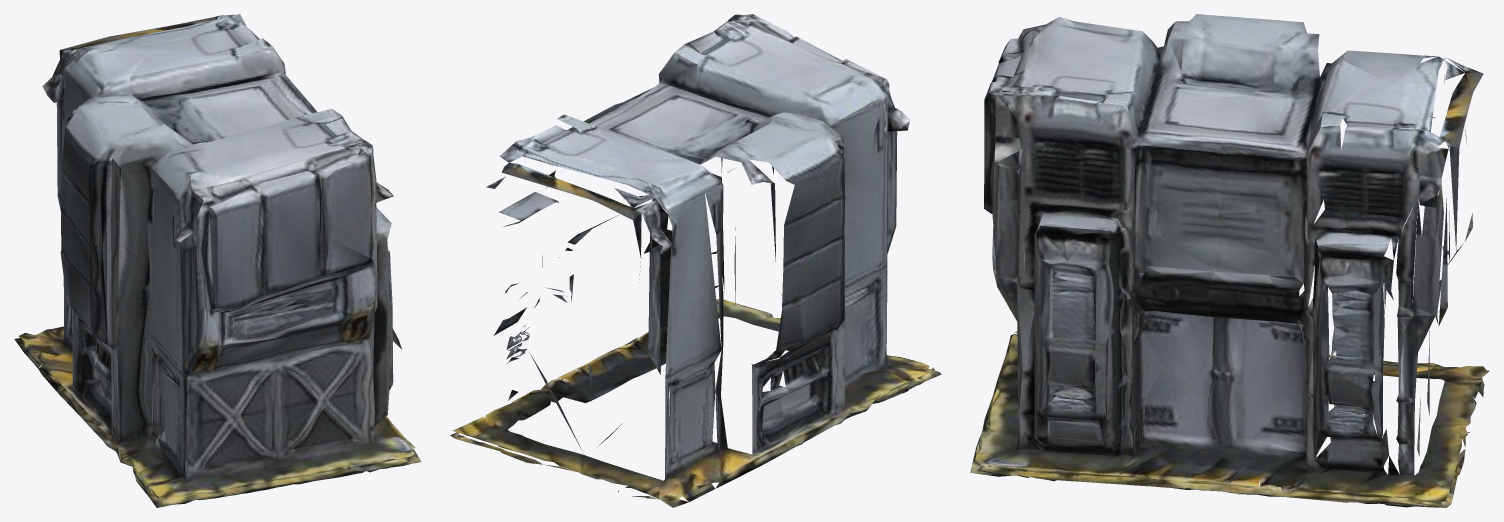
Rendered from hangar_pillar_block_a.glb.
The picture shows the model from 3 angles, left to right: view 1: azimuth 30°, elevation 25°; view 2: azimuth 150°, elevation 25°; view 3: azimuth 270°, elevation 25°; orthographic projection. The views are drawn at different scales.
Parts seen in each view (by area): view 1: hangar_pillar_block_a; view 2: hangar_pillar_block_a; view 3: hangar_pillar_block_a.
Part boxes in pixels (x1,y1,x2,y2): hangar_pillar_block_a: (14,14,421,507); hangar_pillar_block_a: (450,14,941,507); hangar_pillar_block_a: (970,14,1489,507).
Size of the model in its own units: 0.1985 by 0.1934 by 0.2503.
1 material, 1 textured.
